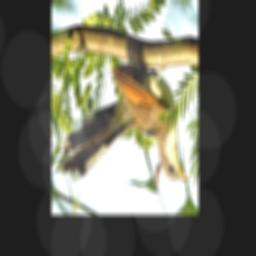Cuckoo: (59, 60, 190, 182)
